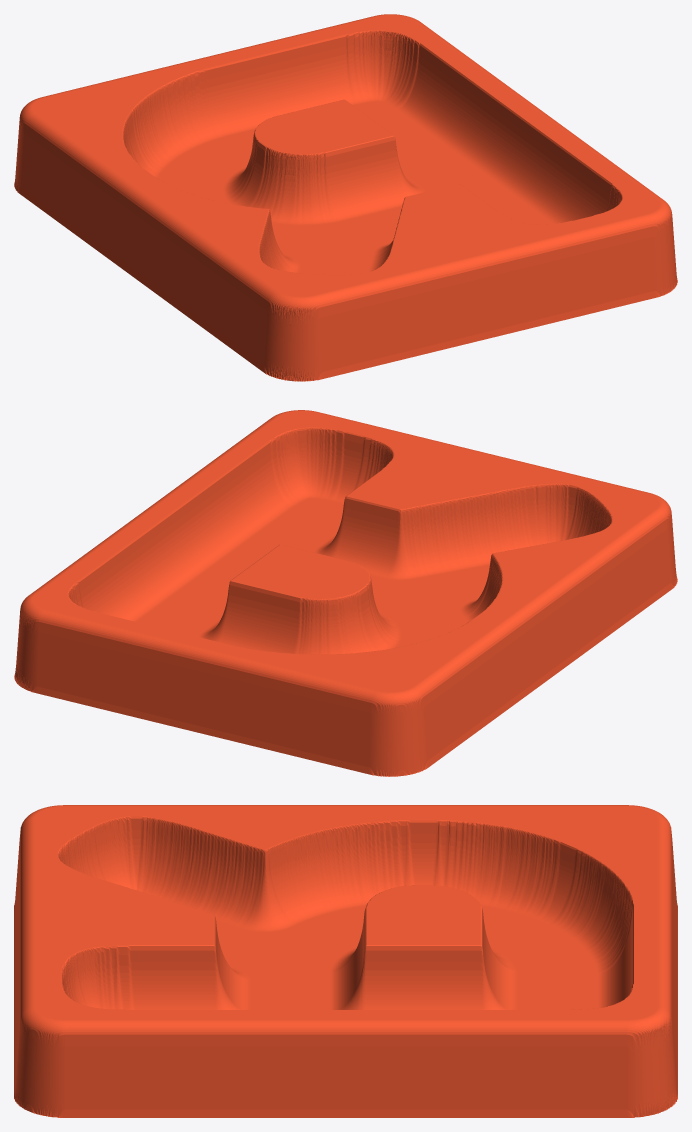
The model's file is mold.glb.
The picture shows the model from 3 angles, top to bottom: view 1: azimuth 30°, elevation 25°; view 2: azimuth 150°, elevation 25°; view 3: azimuth 270°, elevation 25°; orthographic projection. The views are drawn at different scales.
Parts seen in each view (by area): view 1: geometry_0; view 2: geometry_0; view 3: geometry_0.
Part boxes in pixels (<box>): geometry_0: <box>14,14,677,381</box>; geometry_0: <box>14,410,677,776</box>; geometry_0: <box>14,805,677,1117</box>.
Size of the model in its own units: 0.0968 by 0.0175 by 0.1178.
